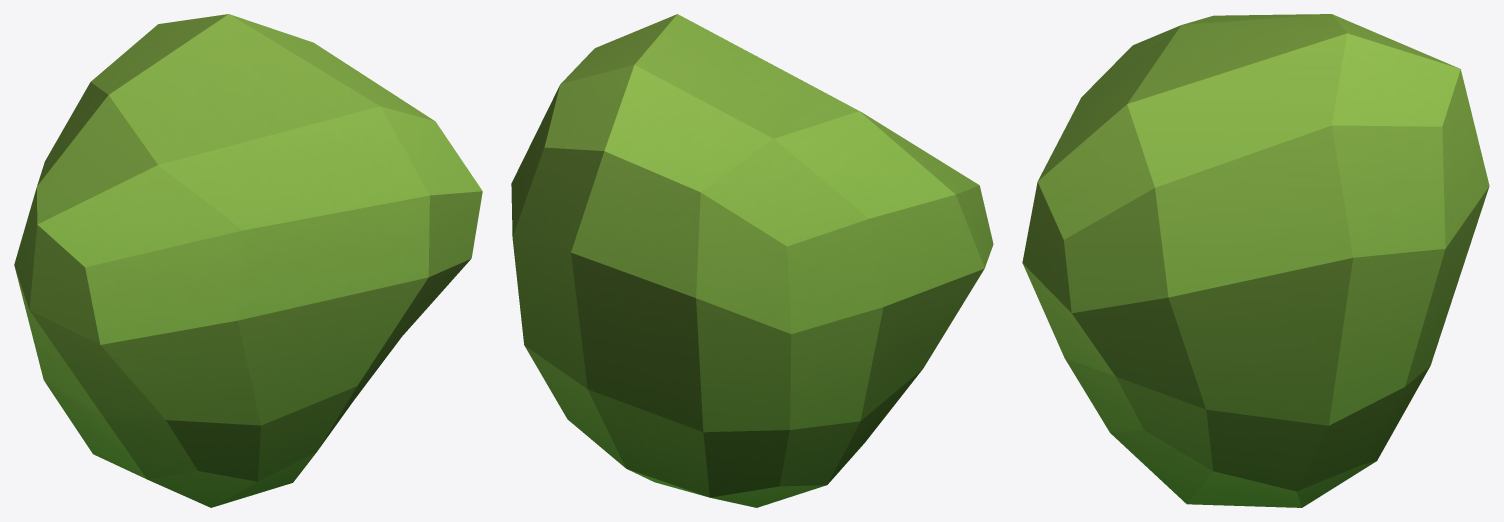
Rendered from arbusto1.fbx.
3 views of the same model, side by side, from view 1: azimuth 30°, elevation 25°; view 2: azimuth 150°, elevation 25°; view 3: azimuth 270°, elevation 25° (orthographic). The views are drawn at different scales.
Parts seen in each view (by area): view 1: arbusto1; view 2: arbusto1; view 3: arbusto1.
Part boxes in pixels (x1=…): arbusto1: x1=14, y1=14, x2=482, y2=507; arbusto1: x1=511, y1=14, x2=993, y2=507; arbusto1: x1=1022, y1=14, x2=1489, y2=507.
Size of the model in its own units: 77.27 by 74.61 by 66.59.
Materials: 1 (1 with a texture image).
